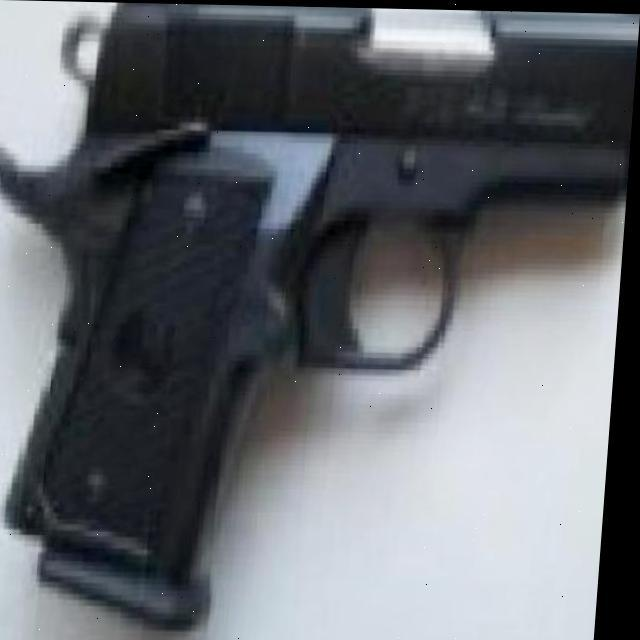gun: (6, 1, 640, 621)
